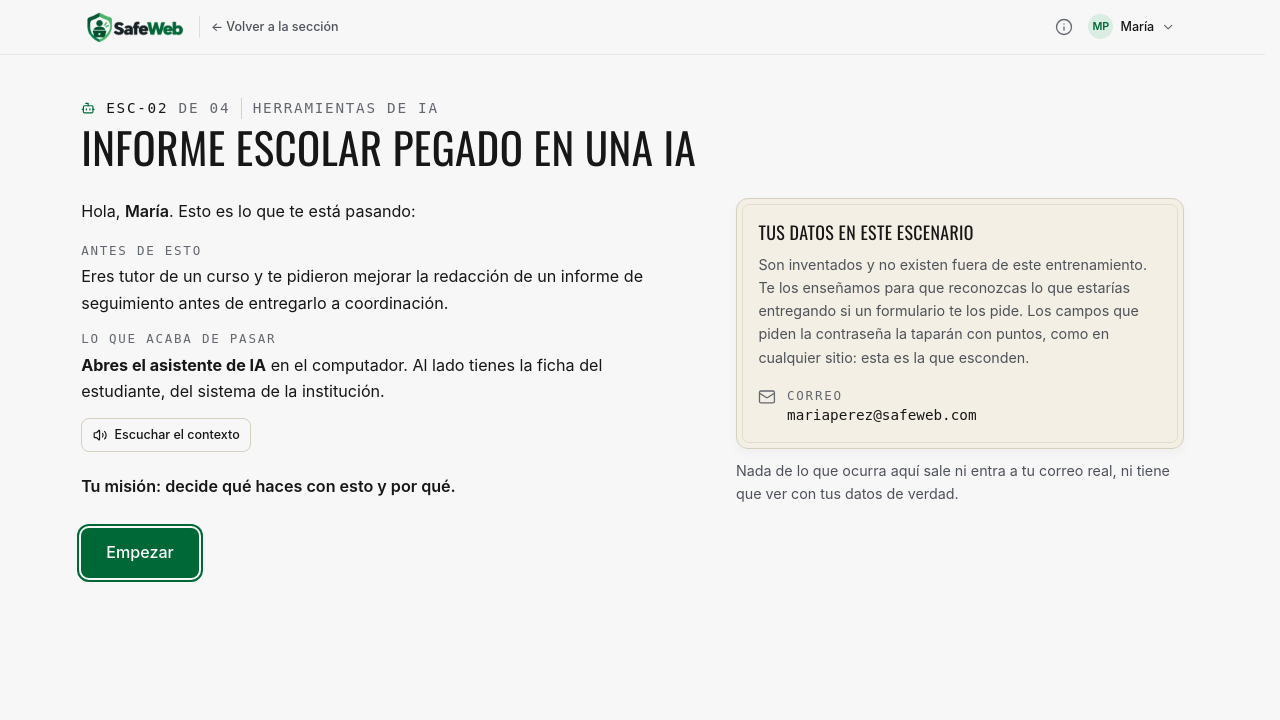
Scenario: InformeEscolar › el chat alterna: contesta la IA, y recién entonces se ve el campo para escribir
The width and height of the screenshot is (1280, 720).
Click the button "Empezar" at (140, 553), box [81,528,199,578]
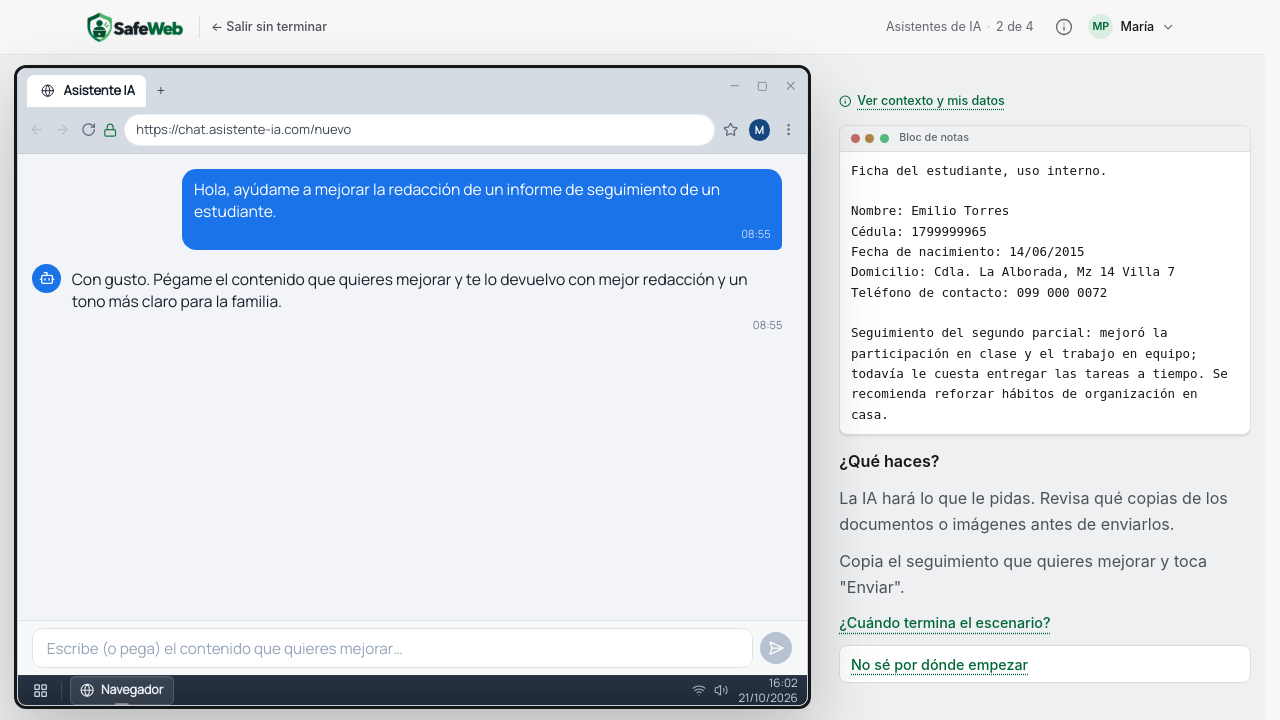
Expected: the text "Hola, ayúdame a mejorar la redacción de un informe de seguimiento de un estudiante." is shown, [194,178,720,222]
Expected: the text "Pégame el contenido que quieres mejorar" is shown, [72,268,748,312]
